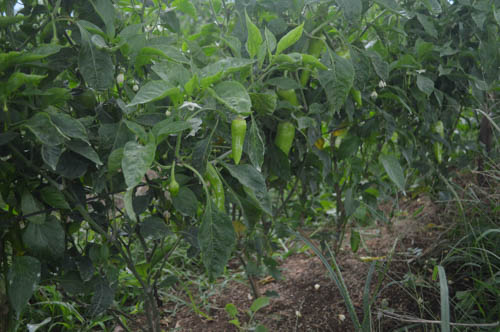ChiliPepper: (228, 121, 245, 164), (206, 169, 223, 211), (278, 120, 291, 151)
